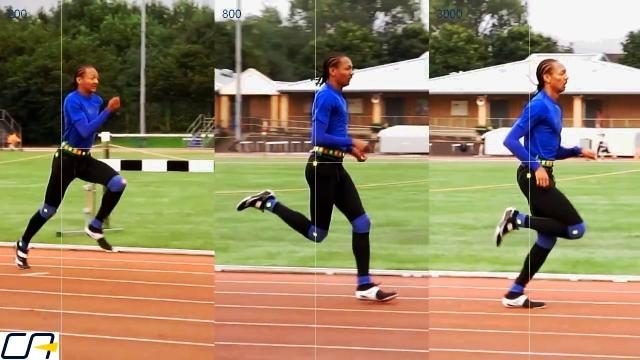berlari: (233, 53, 403, 310), (490, 55, 592, 307)
